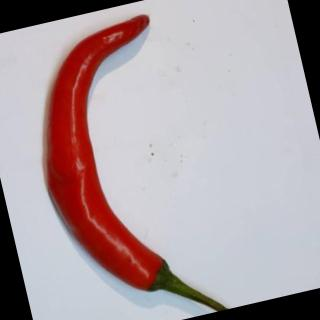Cabai Merah: (8, 4, 247, 320)
